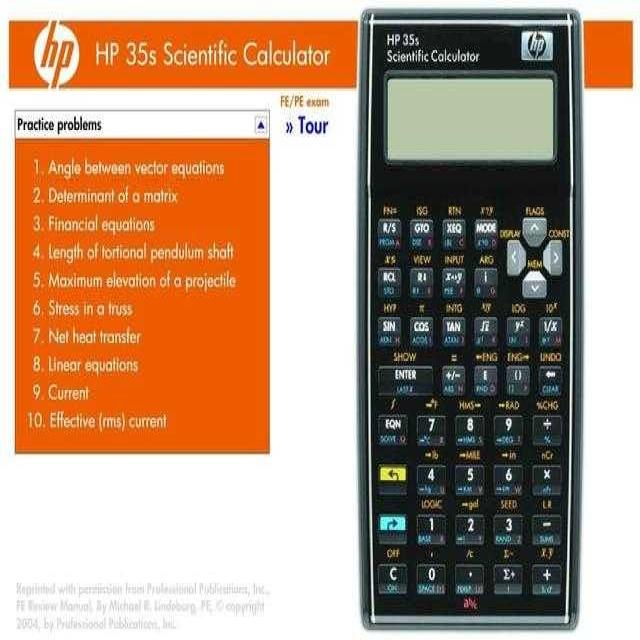Calculator: (356, 7, 583, 630)
